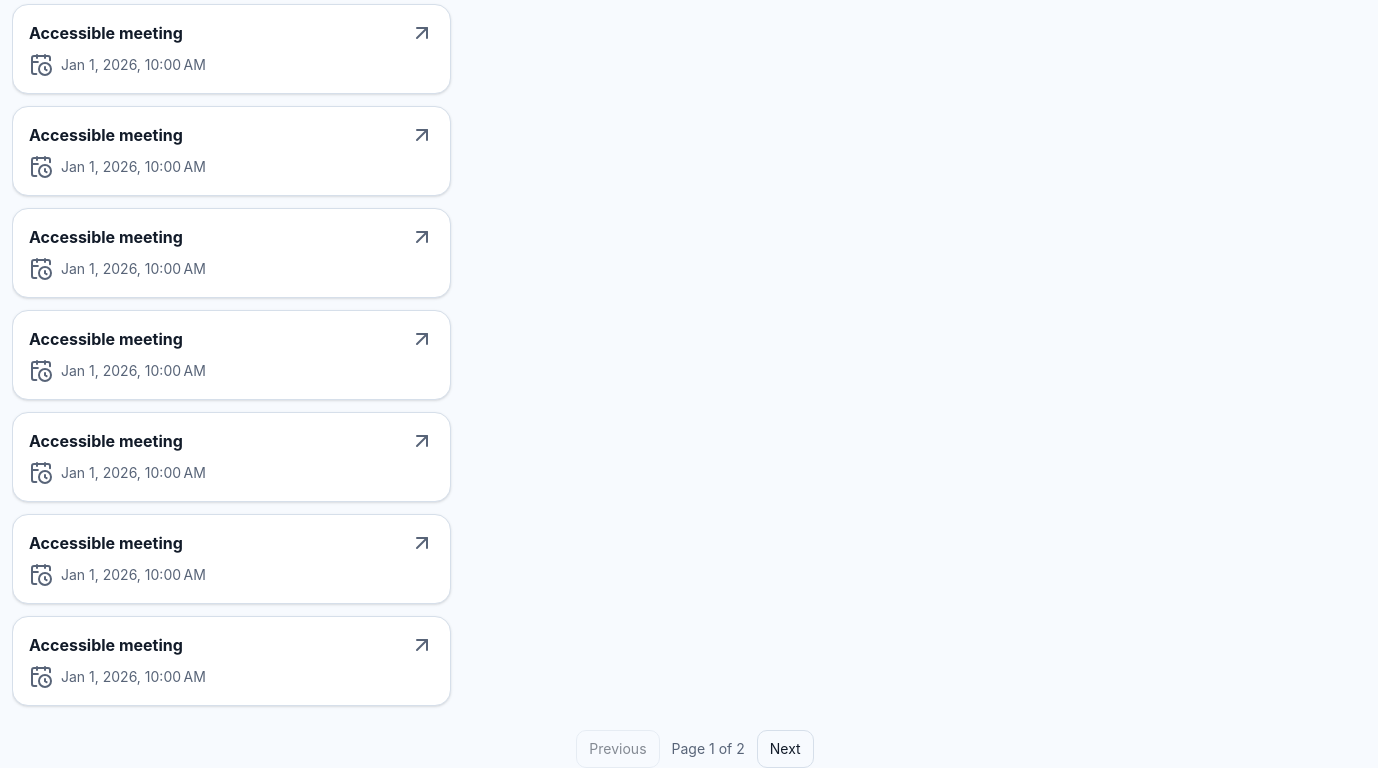
Upcoming accessibility › uses one shared pager and reaches records beyond the first fifty
This screenshot has width=1378, height=768.
(page scrolled)
Expected: the text "Page 1 of 2" is shown, x1=672 y1=739 x2=745 y2=759
Click the button "Next".
click(785, 749)  # box x1=757 y1=730 x2=814 y2=767
(page scrolled)
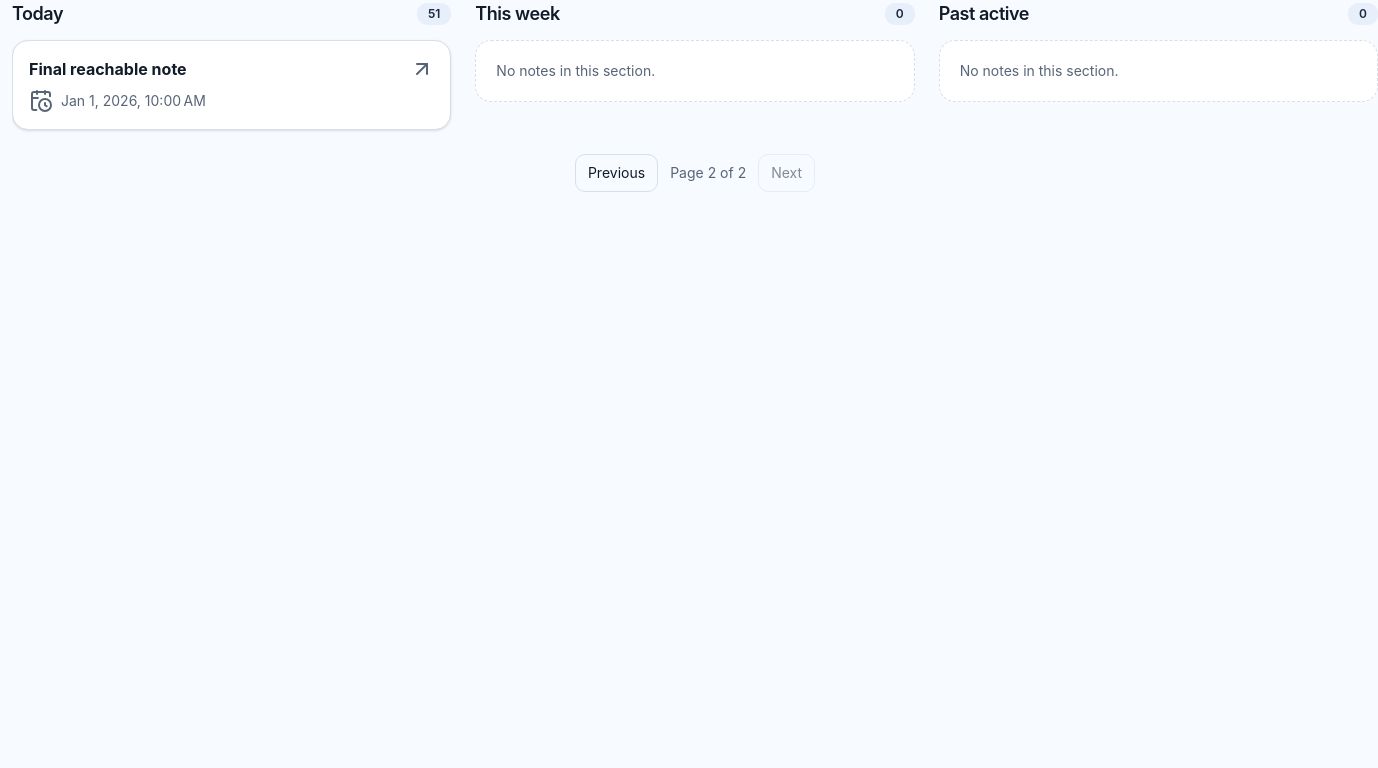
Now the button "Final reachable note Jan 1, 2026, 10:00 AM" is shown, box x1=12 y1=40 x2=451 y2=130
